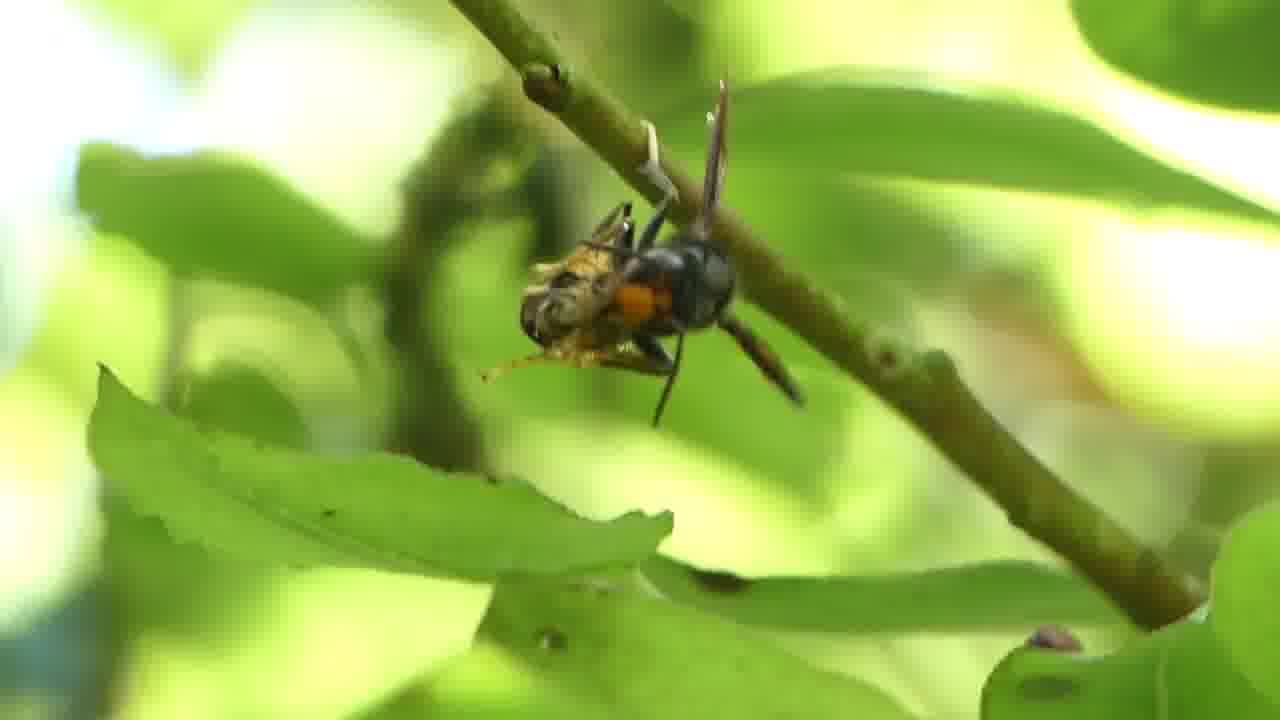hornet: (511, 238, 786, 376)
